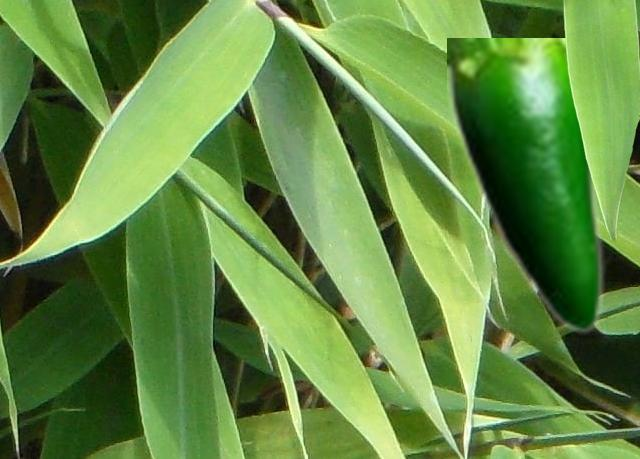green_chili: (447, 38, 604, 334)
